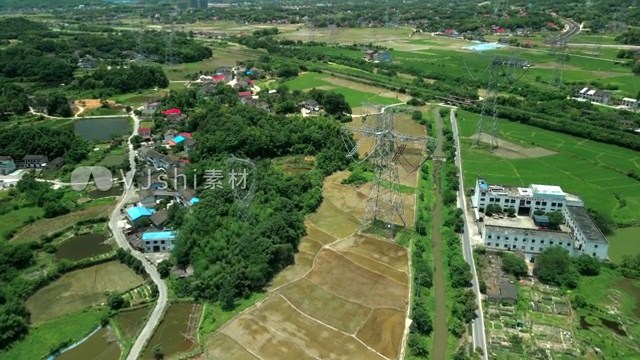tower_body: (350, 96, 431, 243)
tower_foot: (364, 198, 409, 238)
tower_head: (357, 99, 418, 119)
